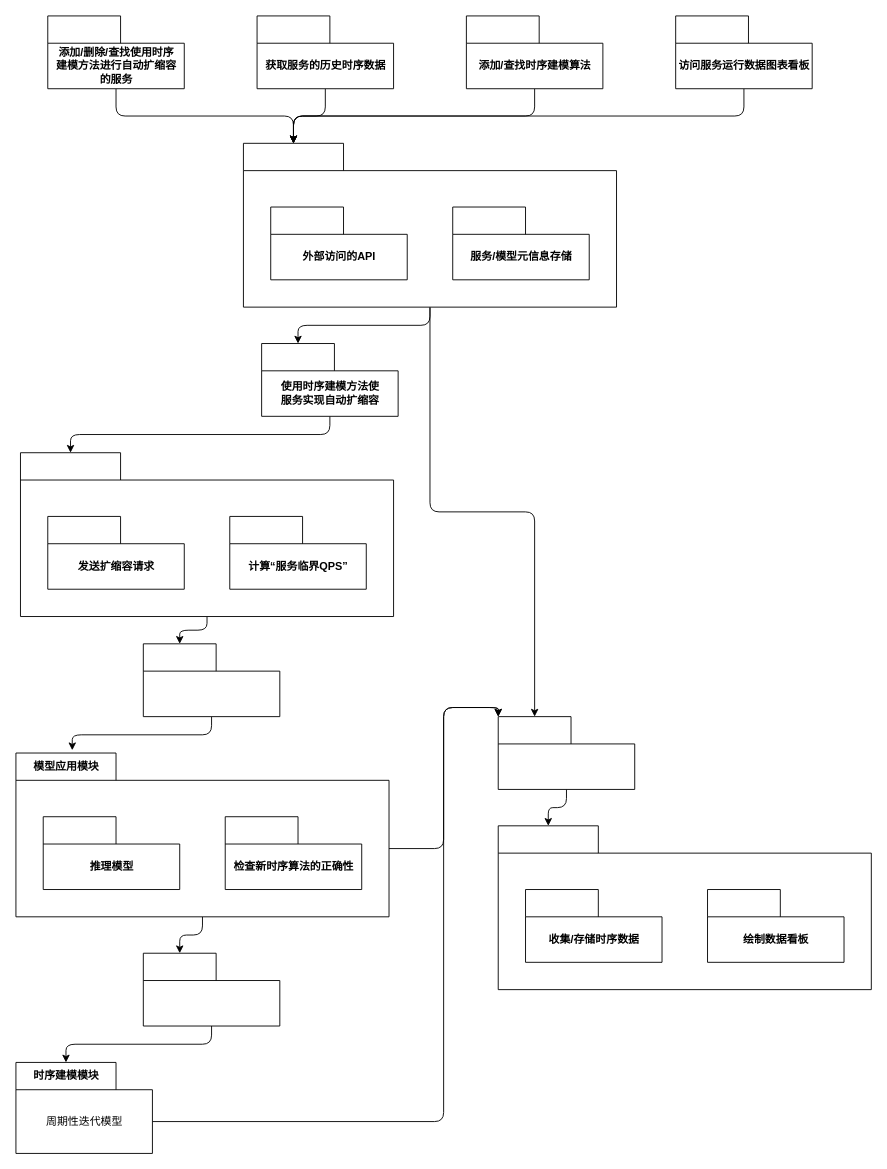
Image size: 887x1169. Some labels were removed from this diagram. The shapes that lost their labels are listed below. From the top down, each one's box as (x1, y1, x2, y2) in pixels, then its label:
(243, 142, 617, 307): 系统管控模块
(20, 452, 394, 617): 扩缩容执行模块
(142, 643, 280, 717): 获取服务访问量预测值
(497, 716, 635, 789): 获取数据/图表看板
(497, 825, 871, 990): 数据收集模块
(142, 952, 280, 1026): 获取用于推理的模型
